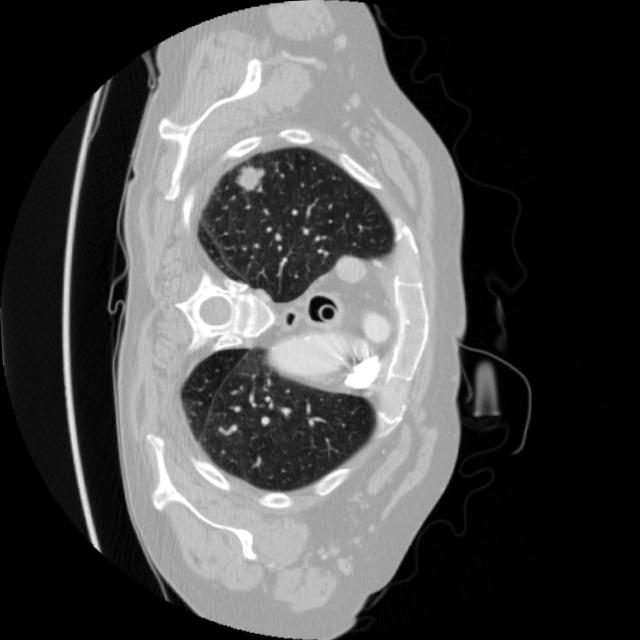nodule: (221, 148, 279, 206)
